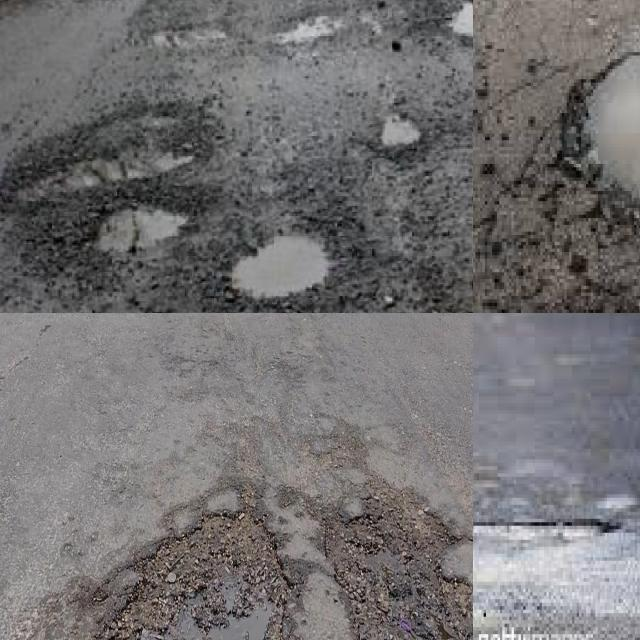Pothole: (112, 507, 293, 640), (324, 492, 473, 640), (564, 54, 640, 208), (23, 141, 196, 198), (229, 232, 333, 304), (93, 206, 189, 255), (473, 519, 616, 536), (380, 117, 423, 153)
